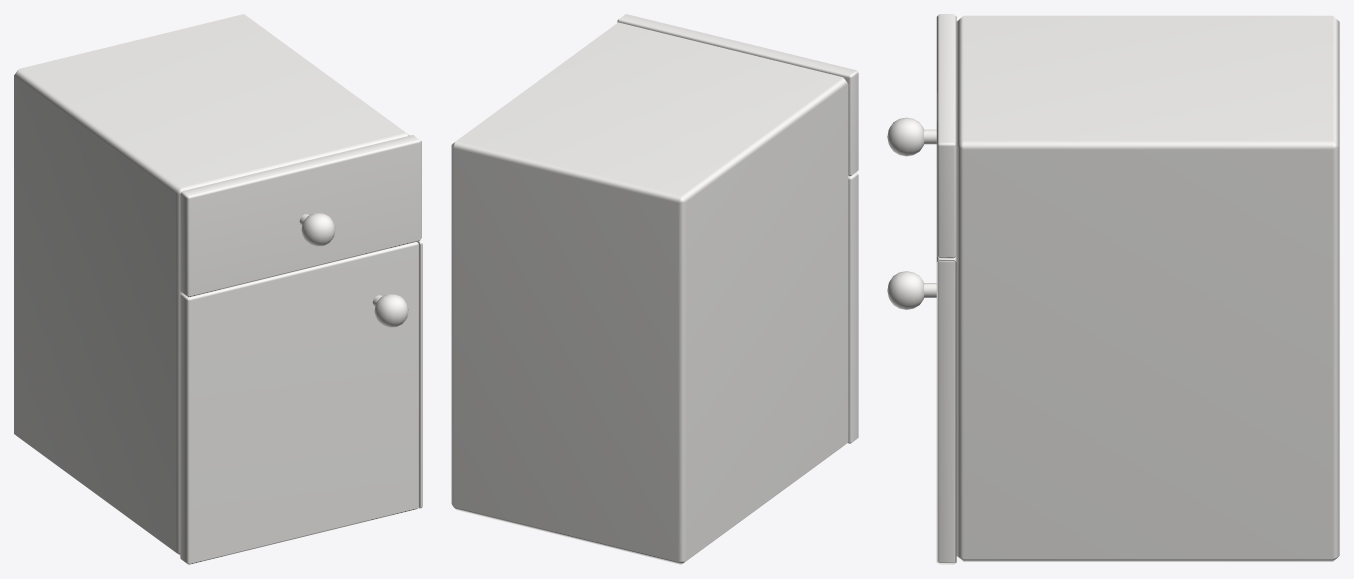
Rendered from Cabinet_4.glb.
3 renders of one model, left to right at view 1: azimuth 30°, elevation 25°; view 2: azimuth 150°, elevation 25°; view 3: azimuth 270°, elevation 25°, orthographic. The views are drawn at different scales.
Parts seen in each view (by area): view 1: Cabinet_4; view 2: Cabinet_4; view 3: Cabinet_4.
Boxes of the visible parts, left/top/right/bottom form: Cabinet_4: left=14, top=14, right=422, bottom=564; Cabinet_4: left=451, top=14, right=858, bottom=564; Cabinet_4: left=887, top=14, right=1339, bottom=564.
Bounding box in the file's own units: 0.6245 × 0.9376 × 0.9121.
1 material, 1 textured.
